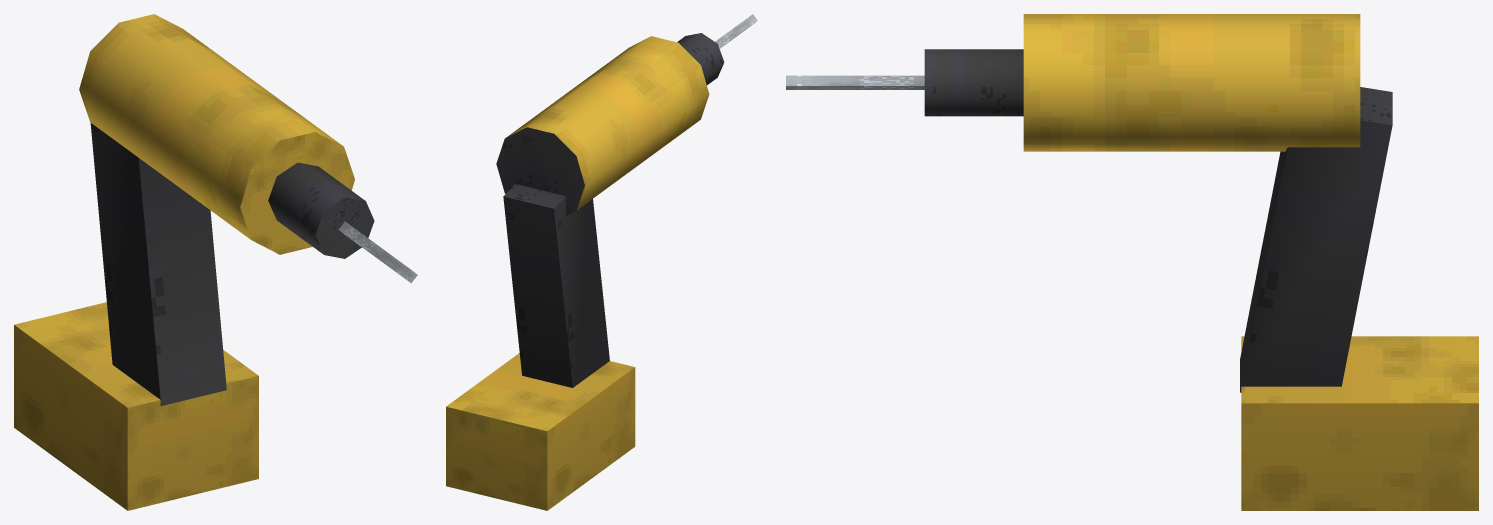
File: power_drill.glb
The picture shows the model from 3 angles, left to right: view 1: azimuth 30°, elevation 25°; view 2: azimuth 150°, elevation 25°; view 3: azimuth 270°, elevation 25°; orthographic projection. The views are drawn at different scales.
Visible parts, largest first — view 1: power_drill, power_drill_chuck; view 2: power_drill, power_drill_chuck; view 3: power_drill, power_drill_chuck.
Boxes of the visible parts, x1,y1,x2,y2 form: power_drill: [14, 14, 354, 510]; power_drill_chuck: [268, 162, 417, 283]; power_drill: [446, 36, 709, 510]; power_drill_chuck: [677, 14, 757, 84]; power_drill: [1023, 14, 1478, 510]; power_drill_chuck: [786, 49, 1023, 116].
Bounding box in the file's own units: 0.08 × 0.2533 × 0.35.
2 materials, 2 textured.
